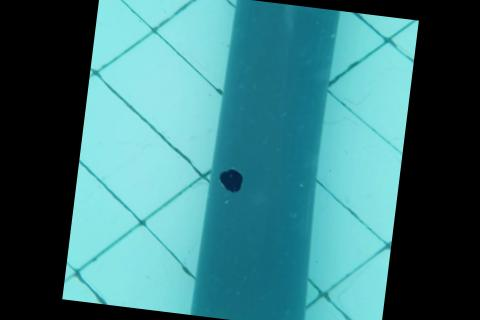kebocoran: (215, 166, 244, 193)
